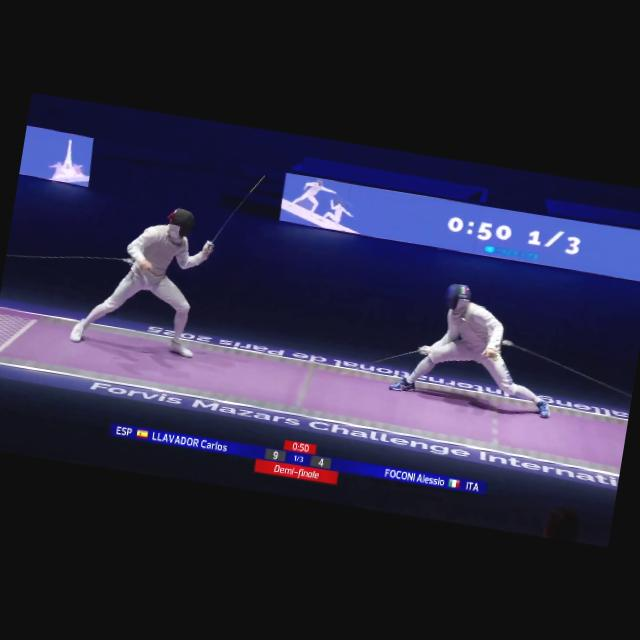blade: (202, 168, 271, 261), (335, 332, 425, 392)
